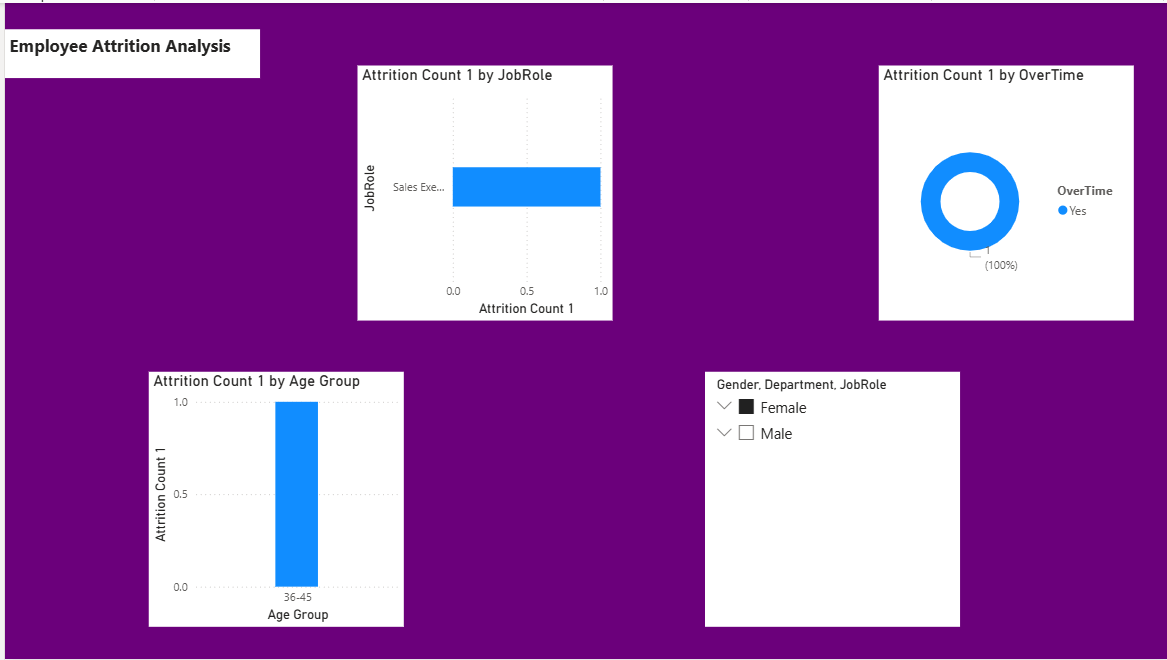

The page's visual inventory and layout, read from the dashboard file:
{"tool":"powerbi","page":{"name":"Attrition Analysis","canvas":[1280,720],"ordinal":1},"visuals":[{"type":"clusteredBarChart","fields":{"Category":["HR Employee.JobRole"],"Y":["HR Employee.Attrition Count 1"]},"box":[387,68.6,279.9,279.9],"z":0},{"type":"donutChart","fields":{"Category":["HR Employee.OverTime"],"Y":["HR Employee.Attrition Count 1"]},"box":[959.2,68.6,279.9,279.9],"z":1},{"type":"clusteredColumnChart","fields":{"Category":["HR Employee.Age Group"],"Y":["HR Employee.Attrition Count 1"]},"box":[157.8,404.8,279.9,279.9],"z":2},{"type":"slicer","fields":{"Values":["HR Employee.Gender","HR Employee.Department","HR Employee.JobRole"]},"box":[768.4,404.8,279.9,279.9],"z":3},{"type":"textbox","box":[0,28.8,279.9,53.5],"z":4}]}

Visuals, with their boxes in screenshot pixels (x1, y1, x2, y2), scaled from the page's 1280x720 canvas onto the 1167x660 screenshot:
clusteredBarChart - HR Employee.JobRole x HR Employee.Attrition Count 1: detection(353, 63, 608, 319)
donutChart - HR Employee.OverTime x HR Employee.Attrition Count 1: detection(875, 63, 1130, 319)
clusteredColumnChart - HR Employee.Age Group x HR Employee.Attrition Count 1: detection(144, 371, 399, 628)
slicer - HR Employee.Gender x HR Employee.Department: detection(701, 371, 956, 628)
textbox: detection(0, 26, 255, 75)
